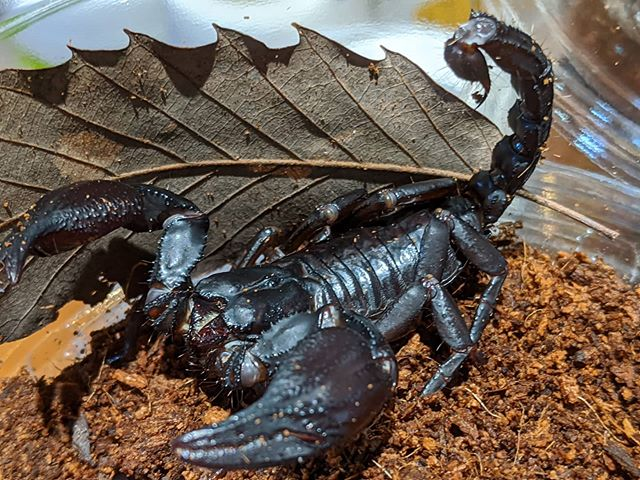insect: (76, 21, 570, 475)
